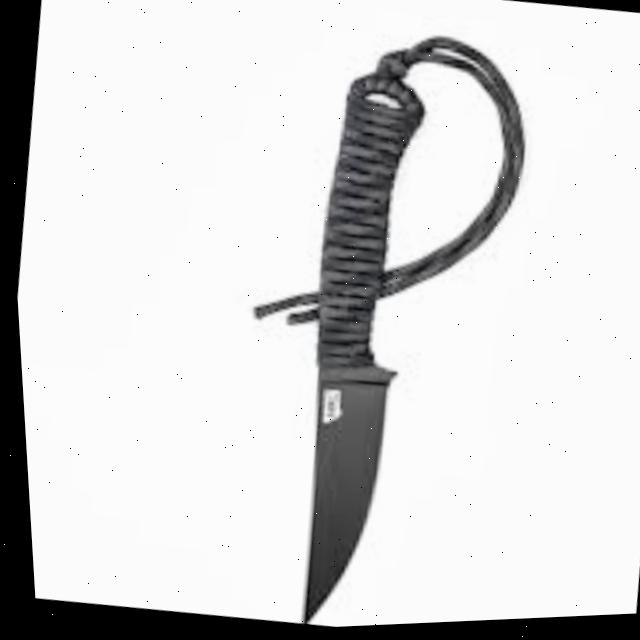knife: (252, 60, 450, 631)
